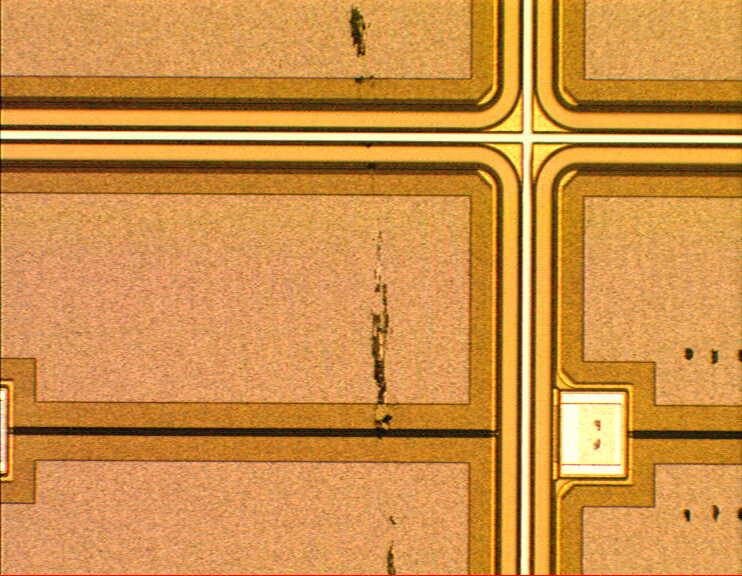SCRATCH: (339, 1, 414, 576)
